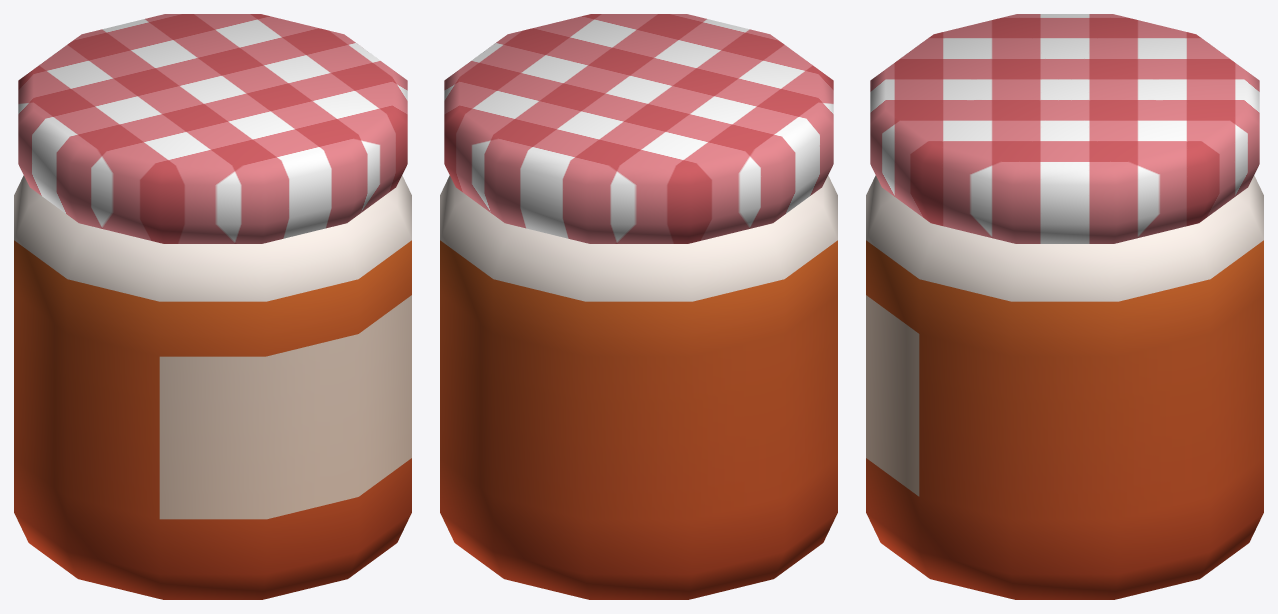
Rendered from KFB_Loot_jam_jar.r1.glb.
The picture shows the model from 3 angles, left to right: view 1: azimuth 30°, elevation 25°; view 2: azimuth 150°, elevation 25°; view 3: azimuth 270°, elevation 25°; orthographic projection.
Visible parts, largest first — view 1: KFB_Loot_jam_jar; view 2: KFB_Loot_jam_jar; view 3: KFB_Loot_jam_jar.
Part boxes in pixels (x1,y1,x2,y2): KFB_Loot_jam_jar: [14, 14, 411, 599]; KFB_Loot_jam_jar: [440, 14, 837, 599]; KFB_Loot_jam_jar: [866, 14, 1263, 599].
Bounding box in the file's own units: 0.4957 × 0.6125 × 0.4957.
Materials: 2 (2 with a texture image).
